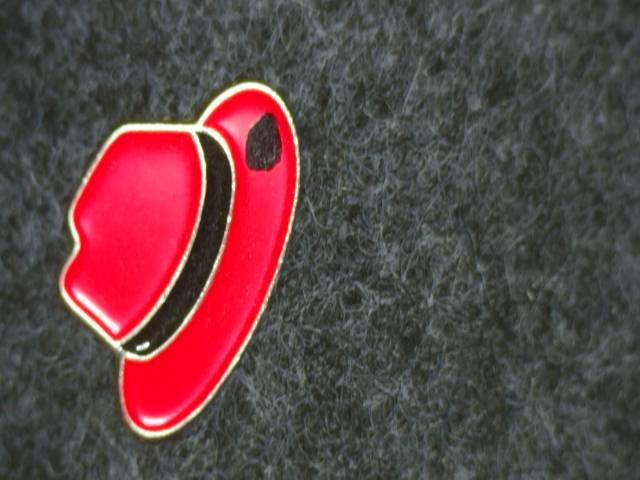Red-Hat: (53, 66, 342, 458)
Scratch: (233, 99, 291, 183)
